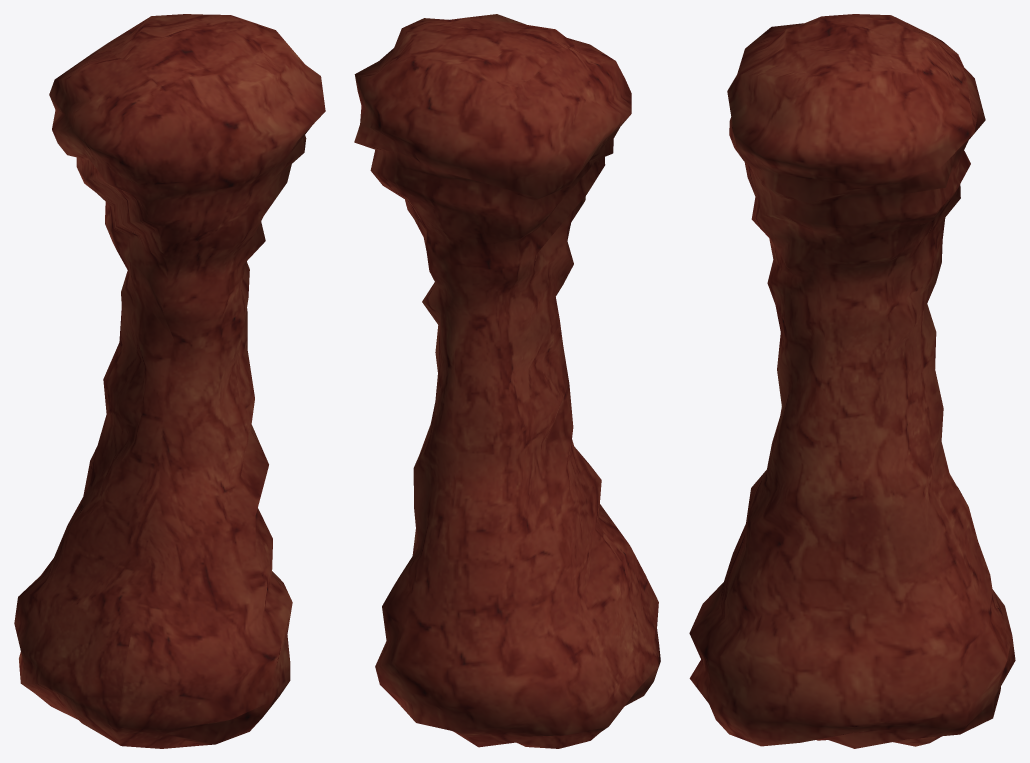
File: stone pillar.fbx
3 views of the same model, side by side, from view 1: azimuth 30°, elevation 25°; view 2: azimuth 150°, elevation 25°; view 3: azimuth 270°, elevation 25° (orthographic). The views are drawn at different scales.
Visible parts, largest first — view 1: Pillar1; view 2: Pillar1; view 3: Pillar1.
Part boxes in pixels (bbox=[...]): Pillar1: bbox=[14, 14, 325, 748]; Pillar1: bbox=[354, 14, 660, 748]; Pillar1: bbox=[689, 14, 1015, 748].
Bounding box in the file's own units: 1.78 × 4.43 × 1.82.
